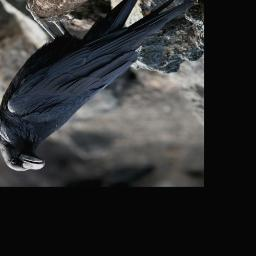Crow: (0, 0, 201, 172)
